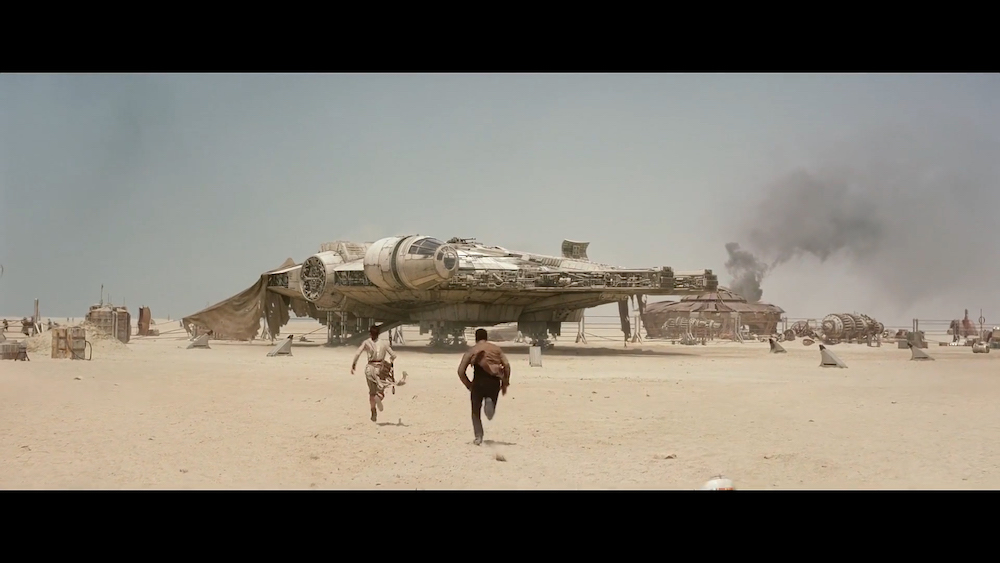Millennium Falcon: (262, 237, 717, 323)
